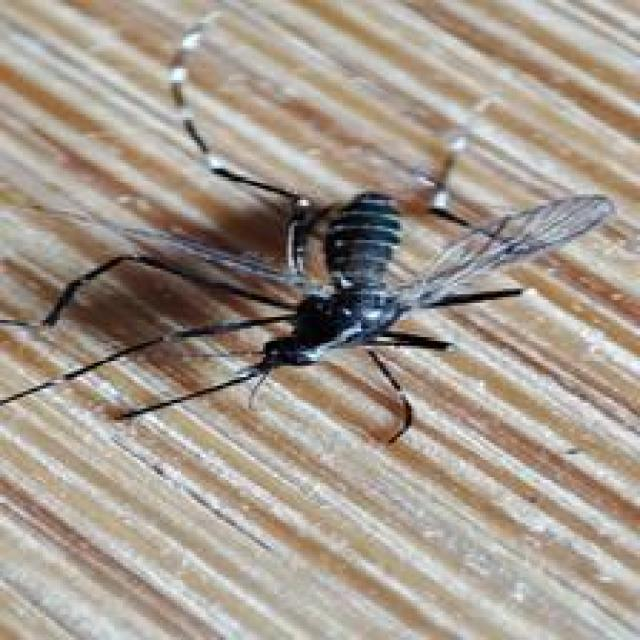Aedes albopictus: (0, 7, 617, 447)
